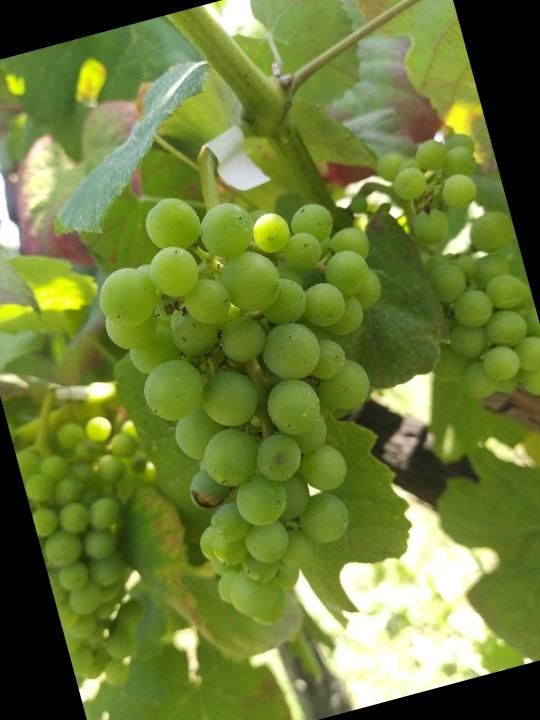grape: (74, 146, 463, 651)
